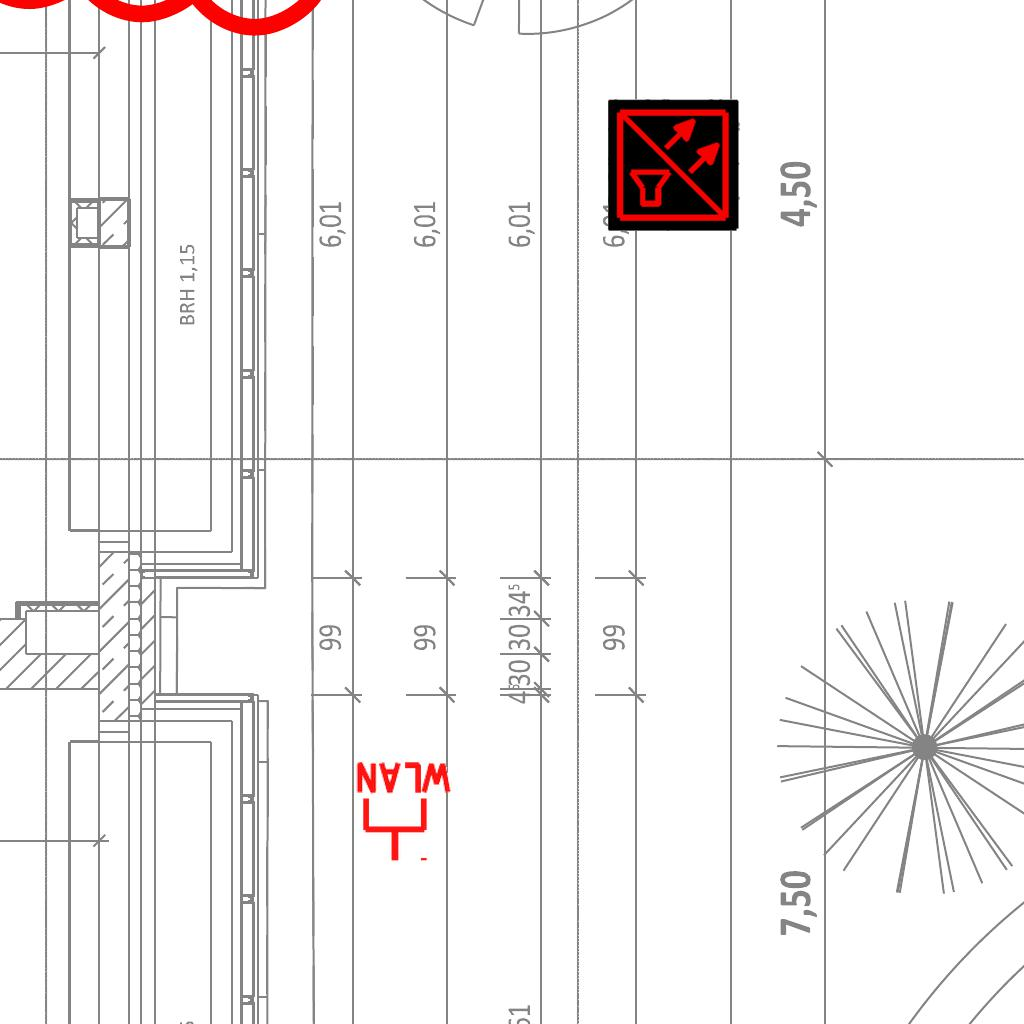OKW_Multisensormelder_(Kombination_optischer_Rauch-Kahlenmonoxid_Waerme-Melder): (608, 99, 740, 231)
WLAN: (352, 760, 456, 865)
